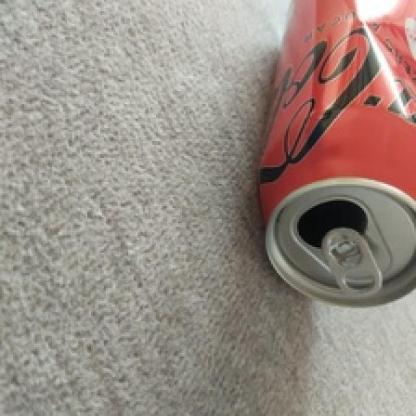Can: (258, 0, 416, 310)
